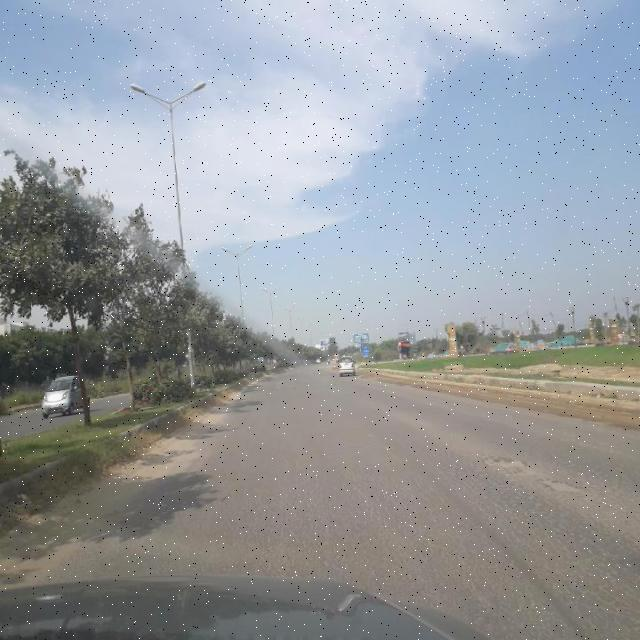D20: (211, 471, 640, 623)
D40: (526, 470, 595, 497), (469, 443, 538, 469)
